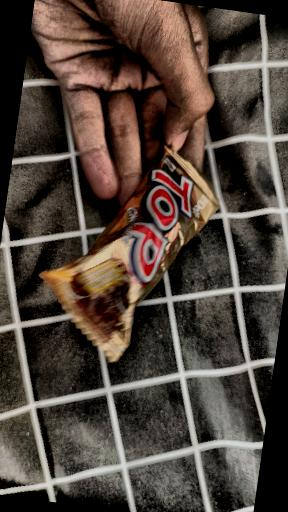top: (67, 115, 217, 379)
